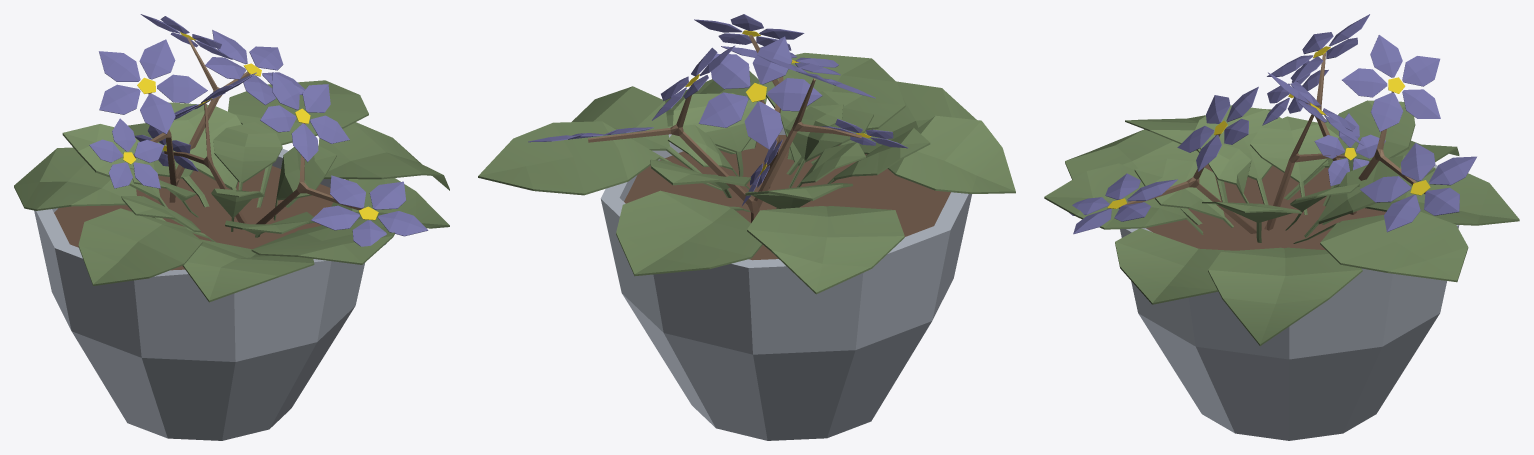
File: Plant_06.fbx
3 renders of one model, left to right at view 1: azimuth 30°, elevation 25°; view 2: azimuth 150°, elevation 25°; view 3: azimuth 270°, elevation 25°, orthographic. The views are drawn at different scales.
Visible parts, largest first — view 1: Plant_06; view 2: Plant_06; view 3: Plant_06.
Boxes of the visible parts, bbox=[...] form: Plant_06: bbox=[14, 14, 449, 440]; Plant_06: bbox=[478, 14, 1015, 440]; Plant_06: bbox=[1044, 14, 1519, 440].
Size of the model in its own units: 21.18 by 18.38 by 21.4.
